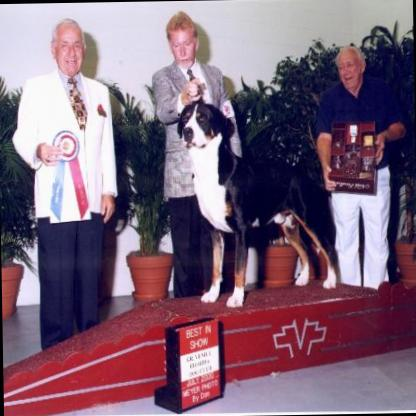Greater_Swiss_Mountain_dog: (174, 98, 337, 304)
